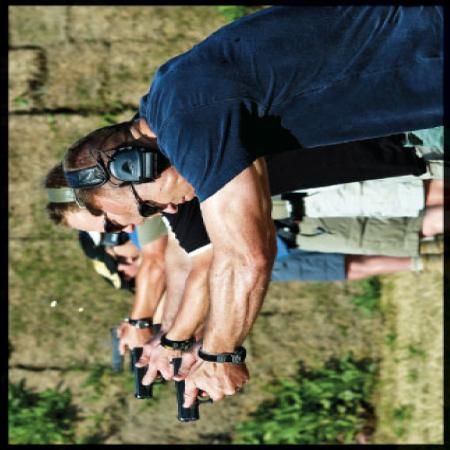Pistol: (168, 358, 212, 424), (106, 328, 158, 375), (125, 347, 166, 402)
